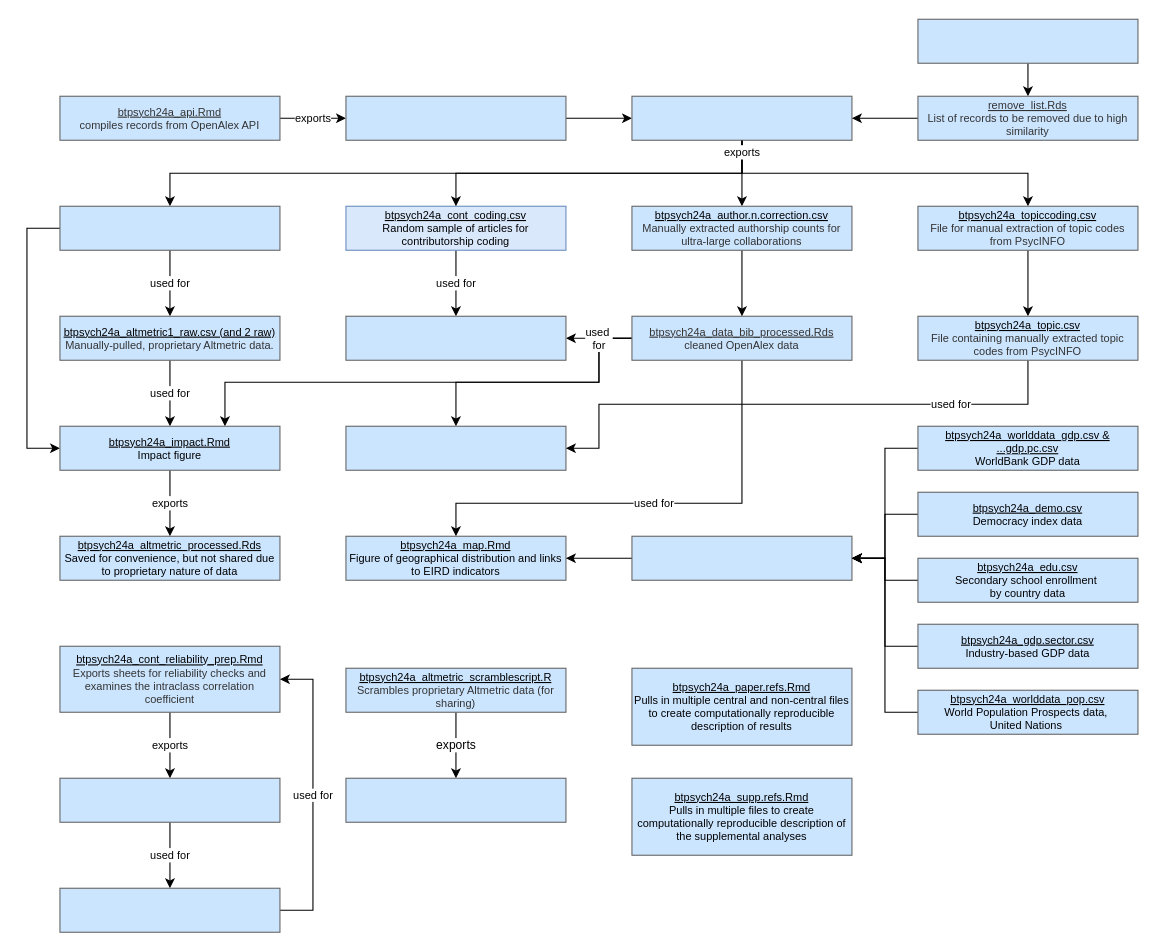
Image size: 1157x952. Some labels were removed from this diagram. Here are the shapes that lost their labels. From the top down, the centre of each, then its label:
point (1027, 40): btpsych24a_dedup.Rmd uses Min Hash to identify potential duplicates
point (455, 117): btpsych24a_data_bib_raw.Rds
point (741, 117): btpsych24a_filter.Rmd filters data and prepares other files
point (169, 227): btpsych24a_bib_doi1.csv (and ...doi2.csv) OpenAlex record DOIs
point (455, 337): btpsych24a_contributorship.Rmd Contributorship figure
point (455, 447): btpsych24a_timetopic .Rmd Time and topic figure
point (741, 557): btpsych24a_weird.Rmd processes EIRD indicators
point (169, 799): btpsych24a_cont_coding.csv Random sample of coded records
point (455, 799): btpsych24a_altmetric1_scrambe.csv (and 2) Scrambled Altmetric data
point (169, 909): btpsych24a_cont_coding_rel.csv Records recoded by a seconde reviewer
